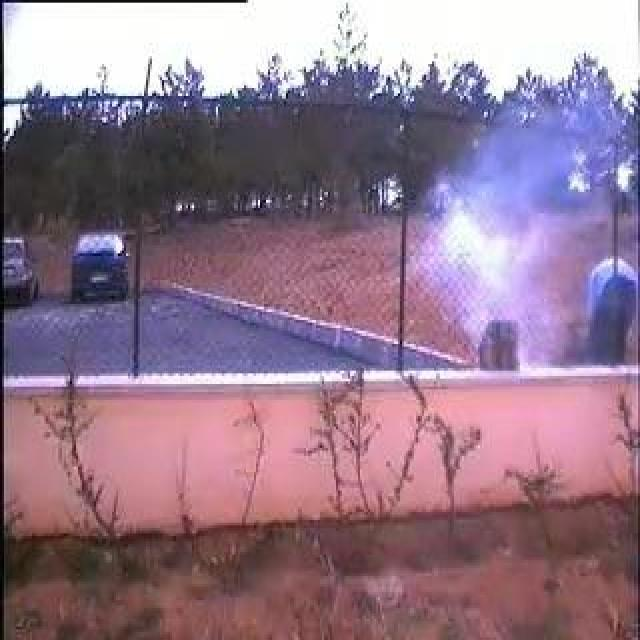Smoke: (432, 183, 566, 361)
